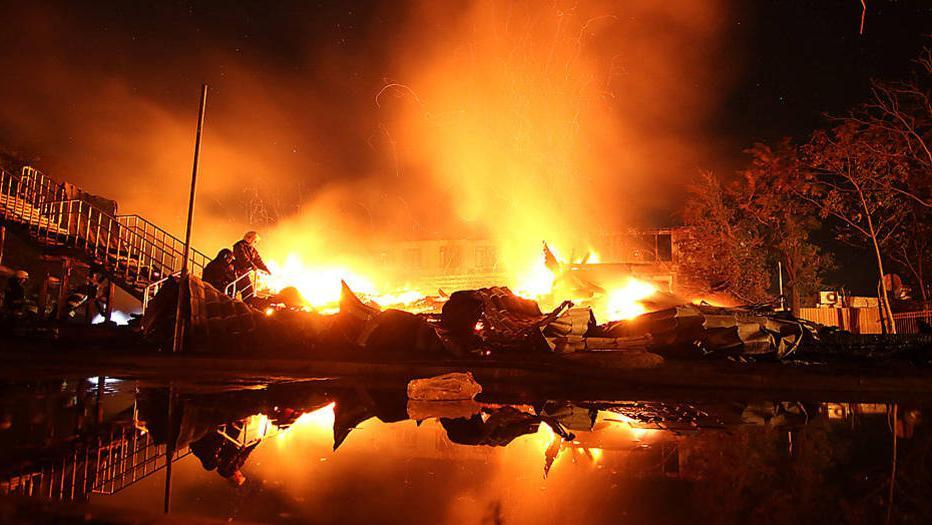Fire: (246, 251, 435, 313), (508, 248, 593, 301), (596, 277, 671, 322), (692, 292, 739, 313)
